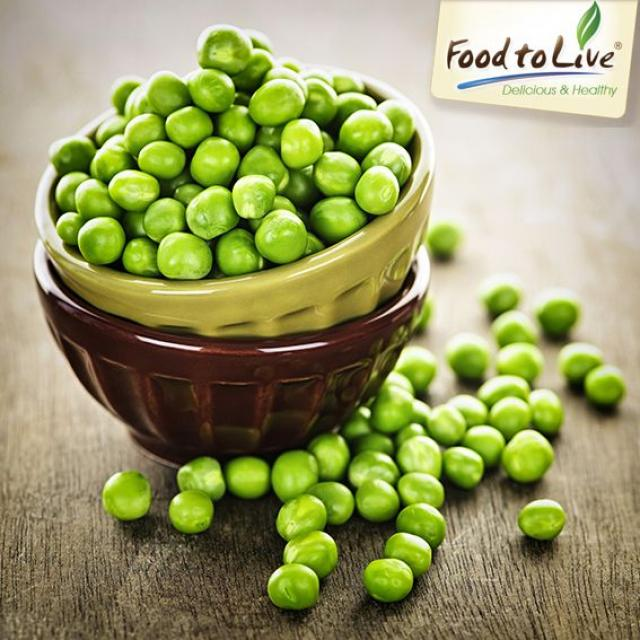Peas: (45, 25, 418, 283), (101, 464, 147, 521), (268, 566, 321, 614), (169, 488, 216, 540), (366, 556, 416, 603), (517, 496, 563, 545)
